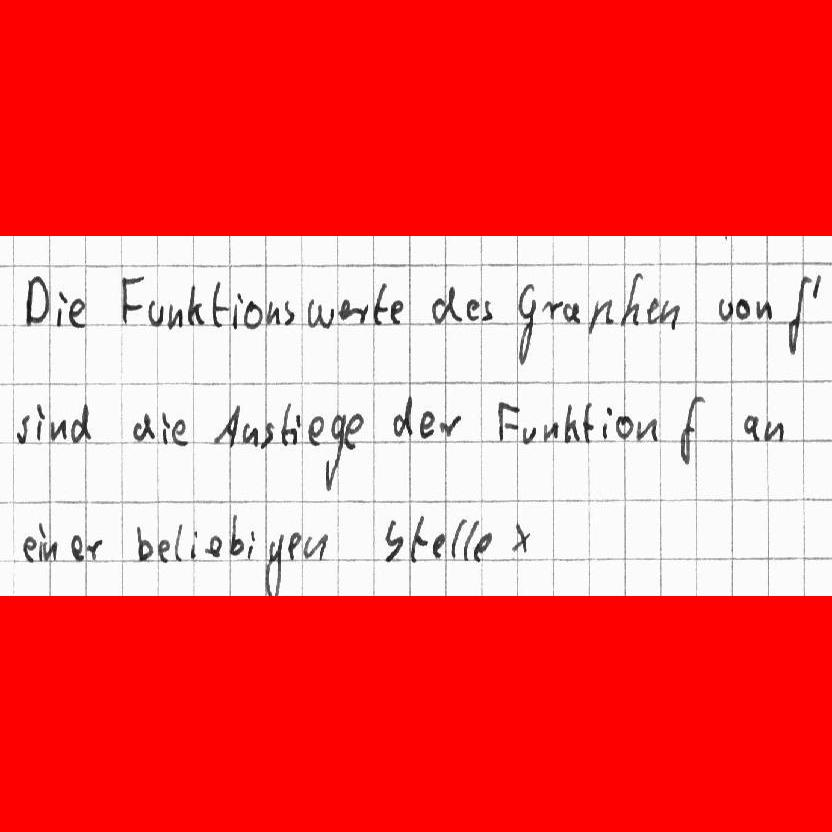Char: (785, 271, 821, 349), (675, 393, 704, 468), (322, 409, 347, 492), (116, 271, 145, 326), (515, 286, 534, 364), (618, 269, 643, 328), (22, 274, 49, 328), (210, 403, 241, 447), (425, 271, 456, 315), (264, 532, 284, 597), (494, 399, 519, 445), (585, 295, 613, 336), (646, 295, 677, 330), (390, 395, 413, 439), (37, 519, 60, 563), (382, 519, 404, 563), (307, 297, 335, 330), (69, 403, 92, 443), (408, 513, 427, 561), (185, 283, 204, 328), (342, 413, 364, 451), (210, 280, 227, 329), (371, 281, 388, 329), (133, 523, 154, 560), (227, 513, 244, 558), (282, 404, 300, 446), (510, 520, 531, 554), (302, 533, 327, 561), (635, 414, 659, 443), (471, 530, 491, 563), (131, 413, 152, 443), (761, 417, 785, 443), (564, 403, 579, 443), (438, 413, 462, 438), (69, 295, 87, 328), (450, 517, 464, 559), (307, 414, 325, 446), (418, 409, 436, 439), (562, 298, 582, 325), (147, 298, 165, 328), (15, 413, 32, 444), (165, 299, 182, 330), (582, 402, 595, 441), (158, 411, 172, 447), (742, 413, 760, 441), (754, 296, 774, 321), (541, 297, 561, 322), (715, 296, 735, 321), (49, 417, 69, 442), (244, 300, 261, 329), (173, 521, 185, 560), (615, 415, 633, 441), (263, 297, 278, 328), (36, 401, 47, 442), (173, 418, 189, 446), (232, 290, 244, 327), (85, 537, 102, 563), (463, 297, 480, 323), (22, 533, 37, 562), (390, 299, 406, 326), (280, 298, 296, 325), (56, 288, 67, 327), (70, 535, 85, 563), (431, 532, 446, 560), (350, 303, 369, 325), (157, 538, 173, 564), (480, 297, 495, 324), (735, 297, 751, 322), (206, 534, 223, 557), (242, 422, 259, 445), (544, 418, 561, 441), (261, 422, 276, 448), (287, 532, 300, 560), (521, 424, 538, 444), (602, 407, 612, 440), (247, 531, 258, 561), (188, 530, 199, 559), (338, 298, 352, 320)
